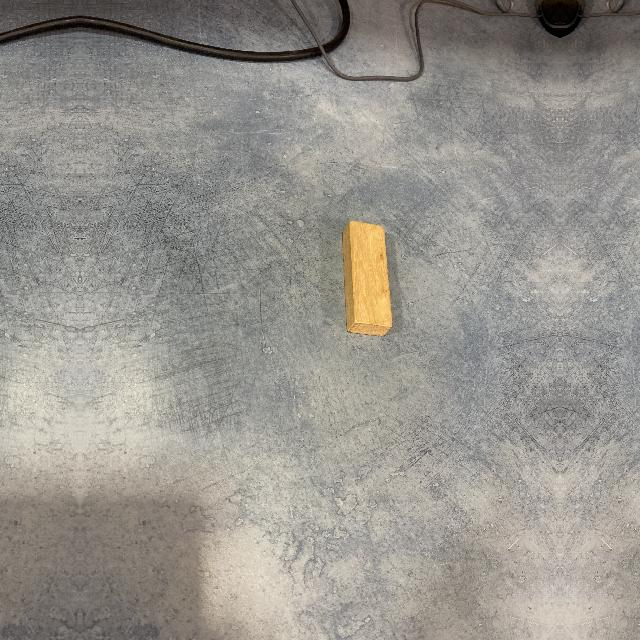jenga: (345, 222, 393, 334)
